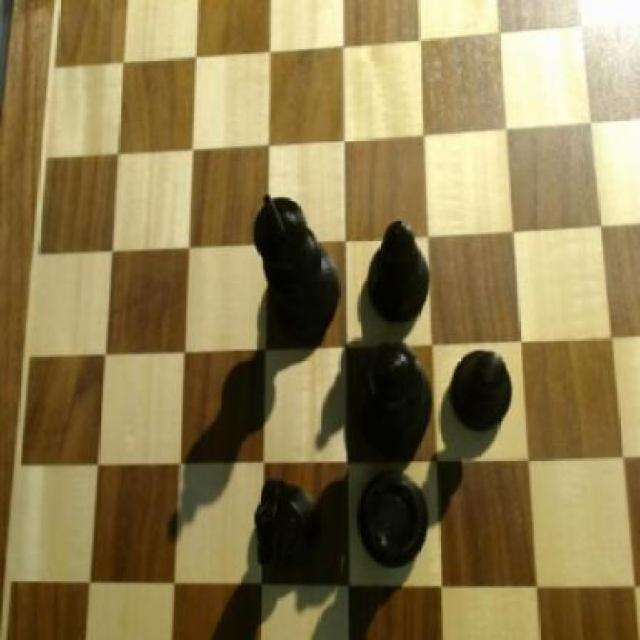bishop: (366, 215, 436, 328)
black-bishop: (256, 186, 344, 347)
black-king: (249, 482, 338, 584)
black-knight: (448, 343, 516, 431)
black-pawn: (350, 328, 438, 455)
black-queen: (352, 458, 433, 570)
